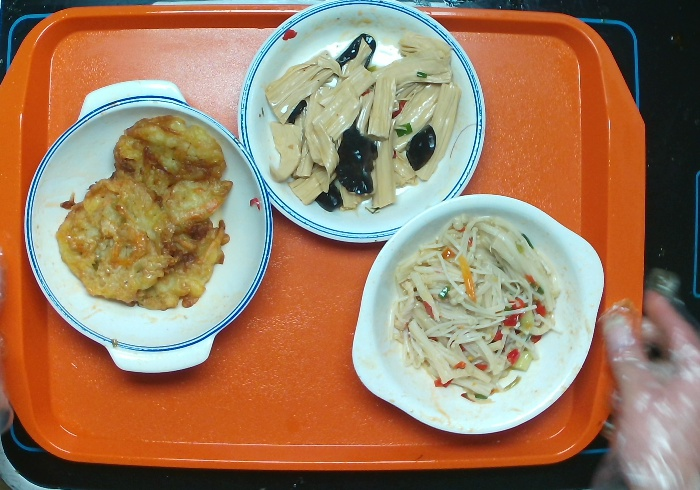HZYJPL-Dai_Er_Bai_Yuan_Wan: (350, 191, 607, 435)
HZYJPL-Lan_Bian_Dai_Er_Wan: (23, 75, 277, 376)
HZYJPL-Lan_Bian_Yuan_Die: (234, 1, 487, 246)
